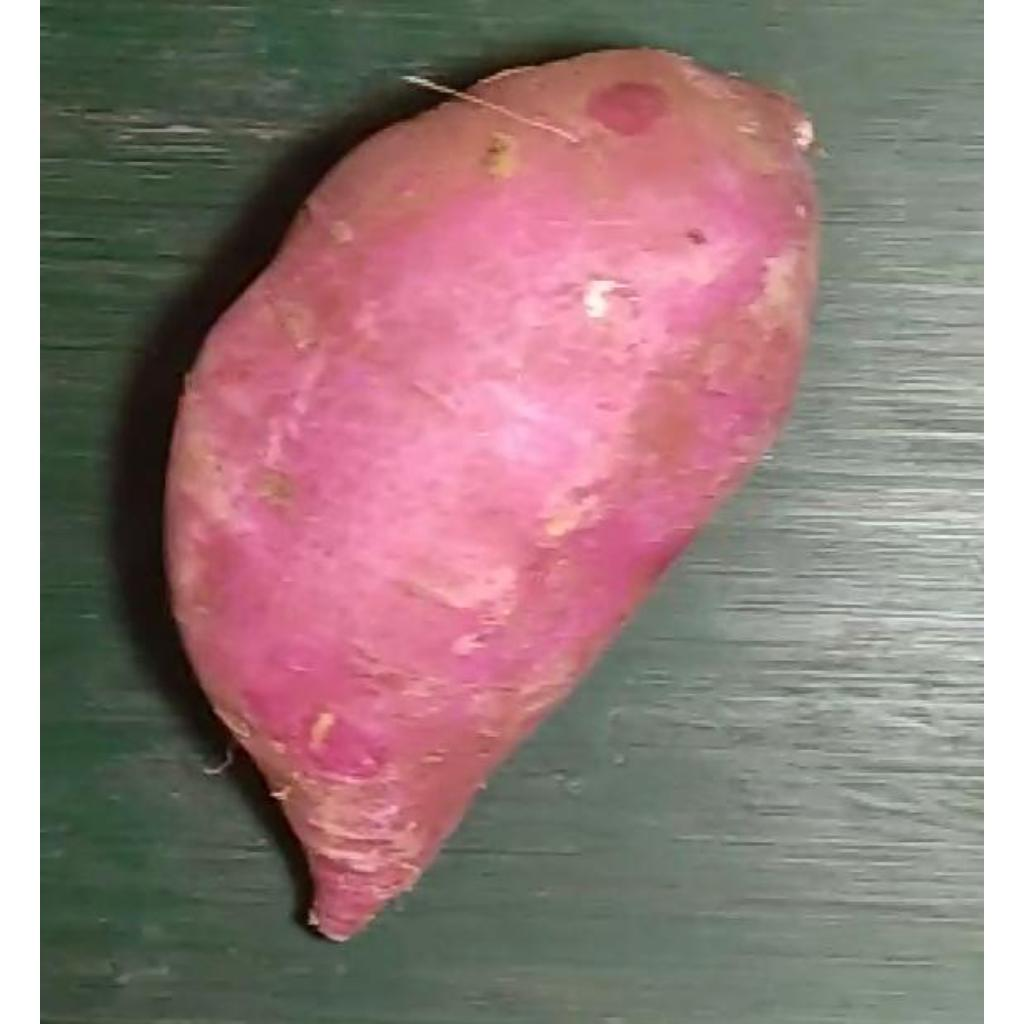Sweet Potato: (164, 48, 825, 946)
